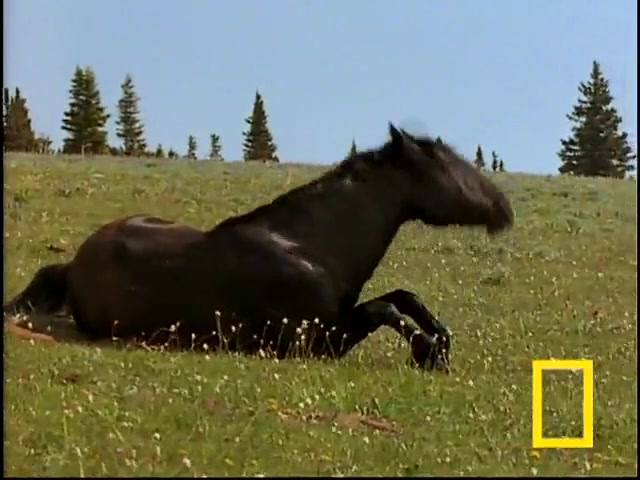horse: (1, 119, 516, 375)
